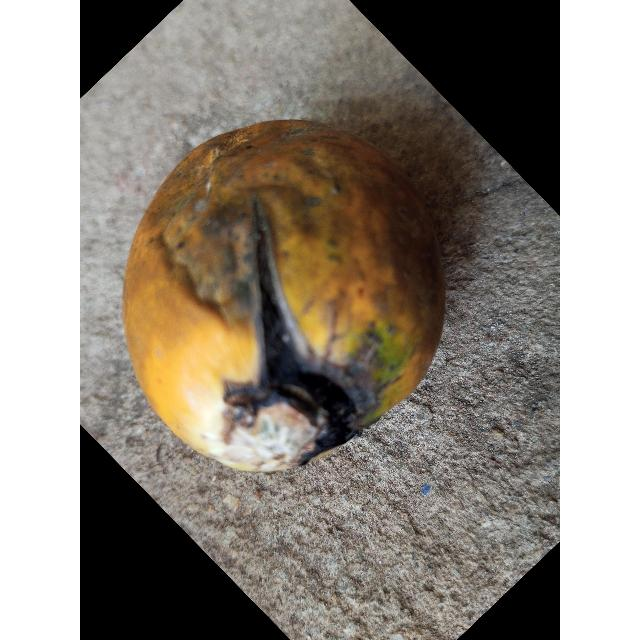damaged: (122, 120, 446, 476)
